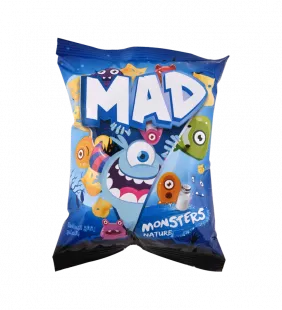MAD: (43, 33, 237, 277)
